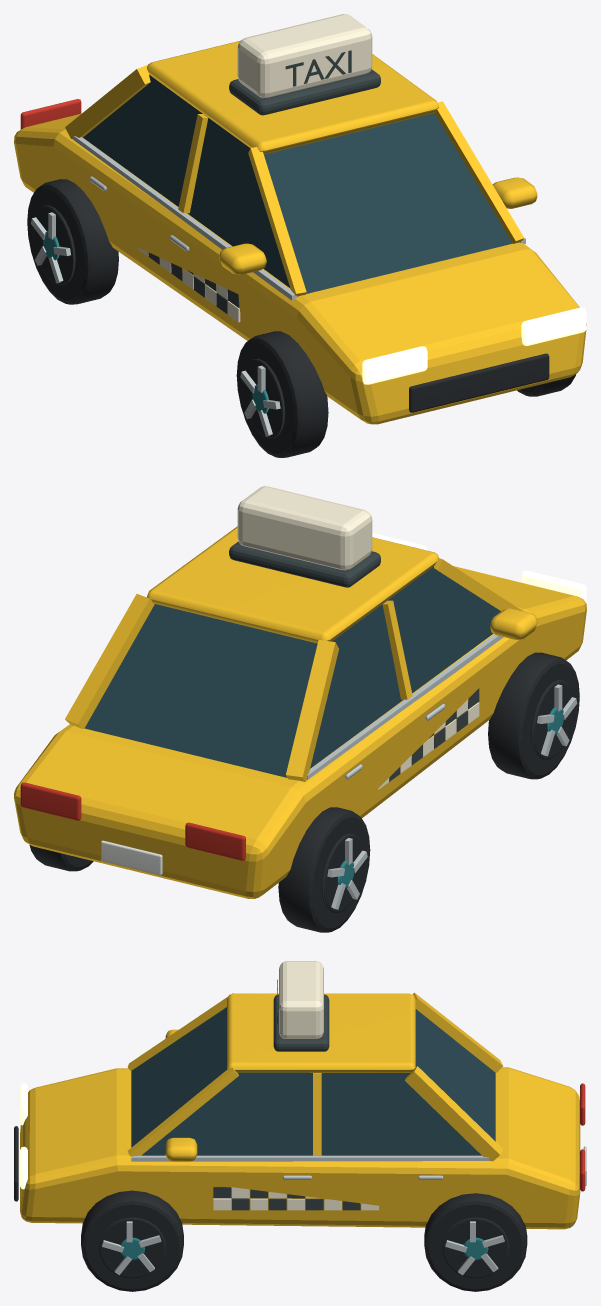
File: taxi.glb
3 views of the same model, one above another, from view 1: azimuth 30°, elevation 25°; view 2: azimuth 150°, elevation 25°; view 3: azimuth 270°, elevation 25° (orthographic). The views are drawn at different scales.
Visible parts, largest first — view 1: taxi; view 2: taxi; view 3: taxi.
Boxes of the visible parts, x1,y1,x2,y2 form: taxi: (14, 14, 586, 457); taxi: (14, 486, 586, 932); taxi: (14, 961, 586, 1291).
Bounding box in the file's own units: 2.19 × 2.13 × 4.34.
